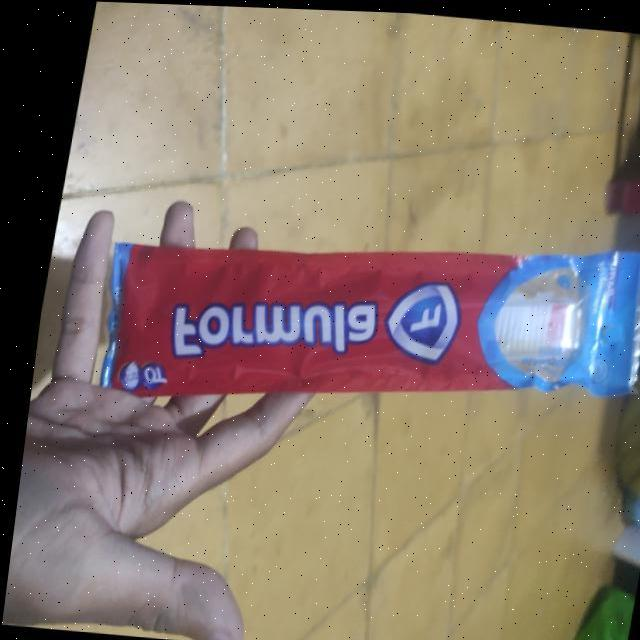toothbrush: (123, 279, 579, 362)
